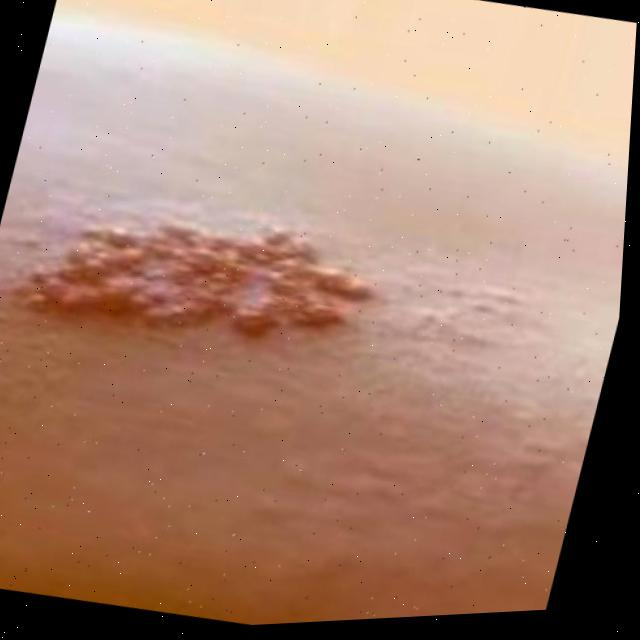Shingles: (12, 179, 386, 394)
